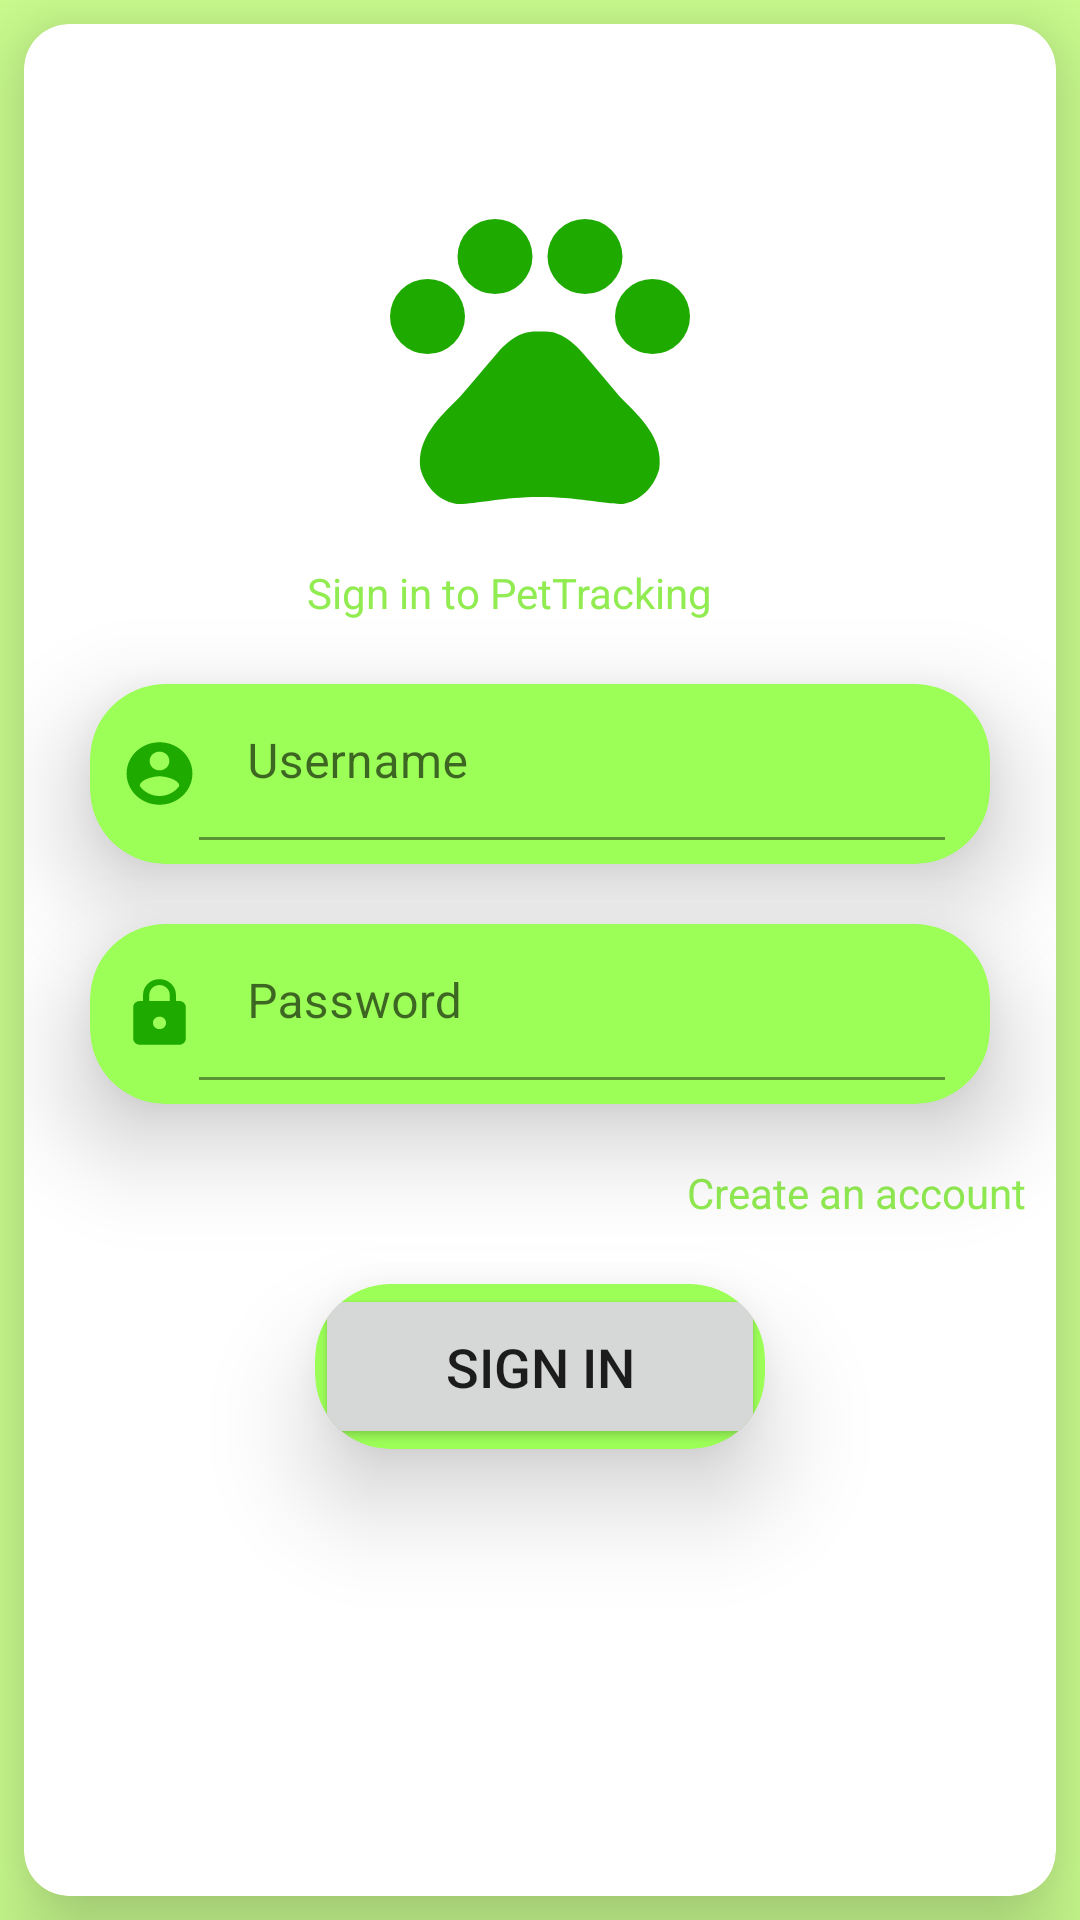

Where to tap for icons on this 1080px×1920px app screen, as (x=x, y=y):
account circle: (x=159, y=773)
lock: (x=159, y=1012)
pets: (x=540, y=361)
